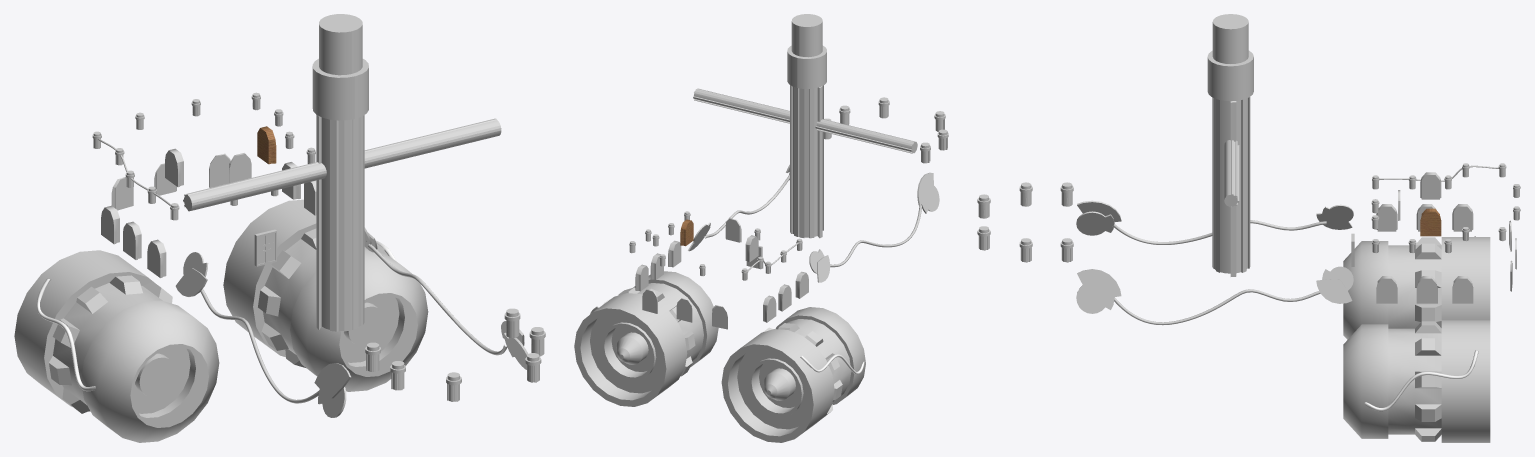
File: Airship mechanical parts-compressed.glb
The picture shows the model from 3 angles, left to right: view 1: azimuth 30°, elevation 25°; view 2: azimuth 150°, elevation 25°; view 3: azimuth 270°, elevation 25°; orthographic projection. The views are drawn at different scales.
Visible parts, largest first — view 1: polySurface75; view 2: polySurface75; view 3: polySurface75.
Part boxes in pixels (<box>): polySurface75: <box>14,14,545,442</box>; polySurface75: <box>574,14,948,442</box>; polySurface75: <box>977,14,1520,442</box>.
Size of the model in its own units: 6.01 by 7.72 by 10.17.
Materials: 3 (1 with a texture image).
